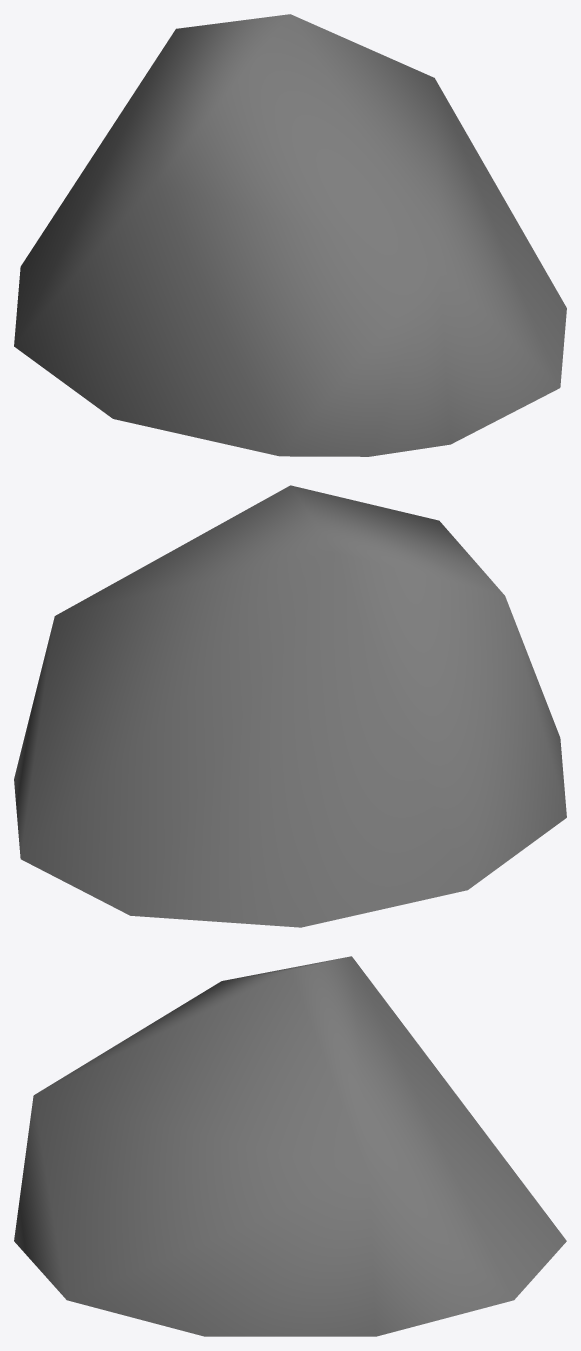
Rendered from Pebble2.fbx.
3 views of the same model, one above another, from view 1: azimuth 30°, elevation 25°; view 2: azimuth 150°, elevation 25°; view 3: azimuth 270°, elevation 25° (orthographic). The views are drawn at different scales.
Visible parts, largest first — view 1: Pebble2; view 2: Pebble2; view 3: Pebble2.
Part boxes in pixels (bbox=[...]): Pebble2: bbox=[14, 14, 566, 456]; Pebble2: bbox=[14, 485, 566, 927]; Pebble2: bbox=[14, 956, 566, 1336].
Bounding box in the file's own units: 0.7163 × 0.4722 × 0.8757.
